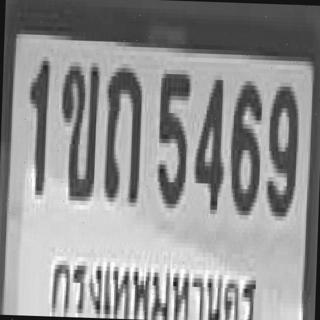A02: (57, 55, 98, 194)
A22: (102, 63, 141, 198)
N01: (25, 54, 48, 188)
N04: (193, 70, 225, 210)
N05: (155, 69, 189, 204)
N06: (227, 74, 261, 209)
N09: (265, 82, 297, 212)
P04: (42, 246, 267, 320)
